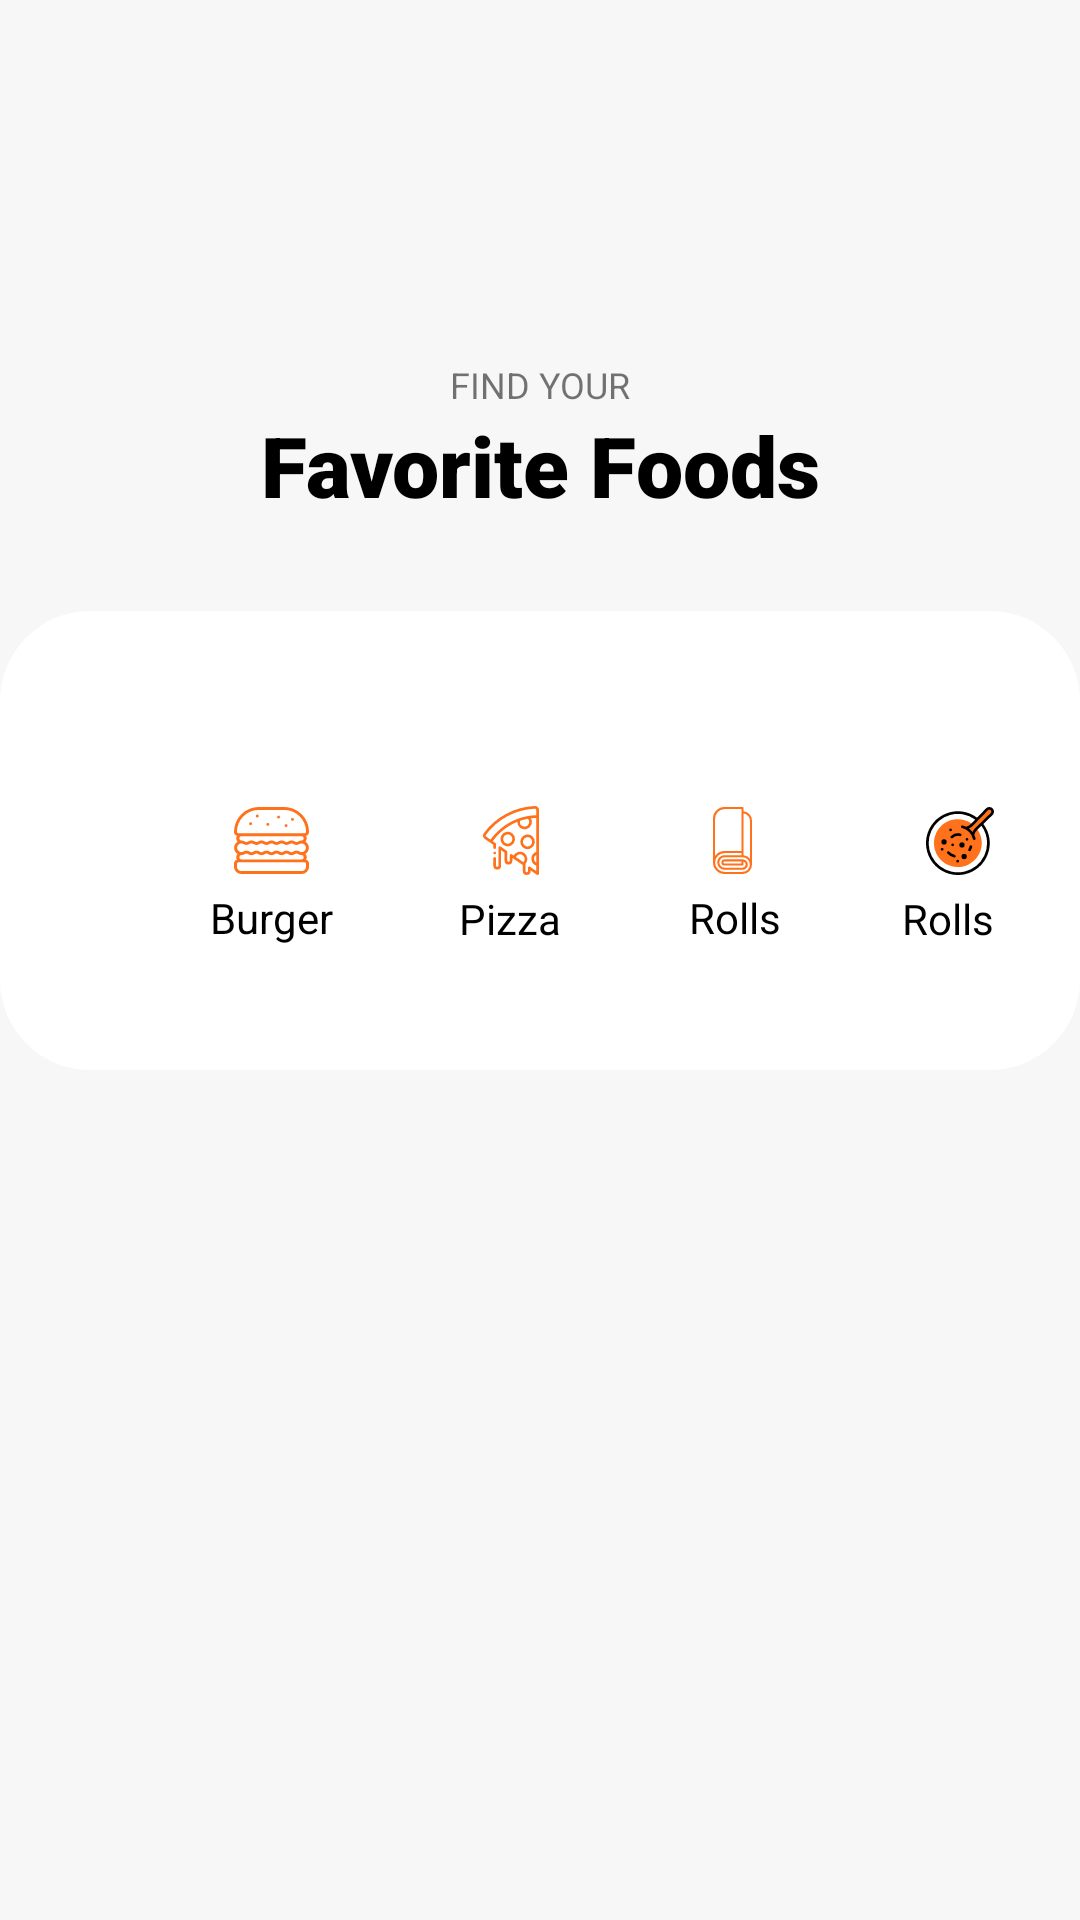

Named icons in this screenshot (1080w x 1920h) and their centers, (x=x, y=y):
soup: (x=960, y=841)
